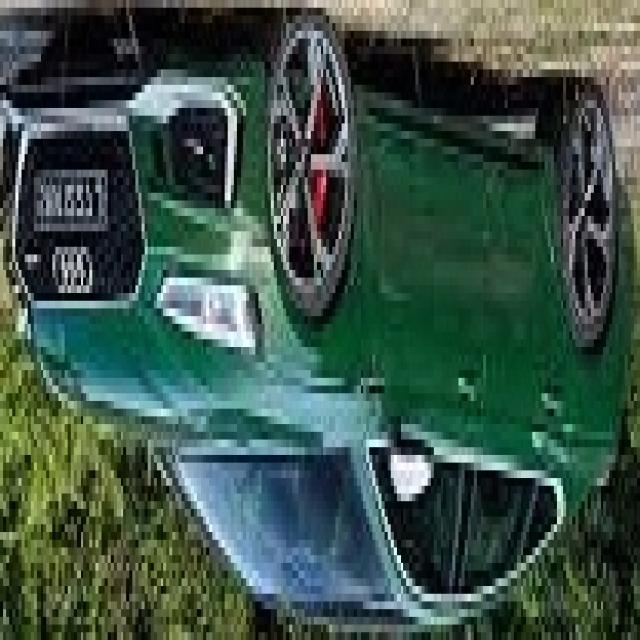green: (11, 19, 640, 624)
